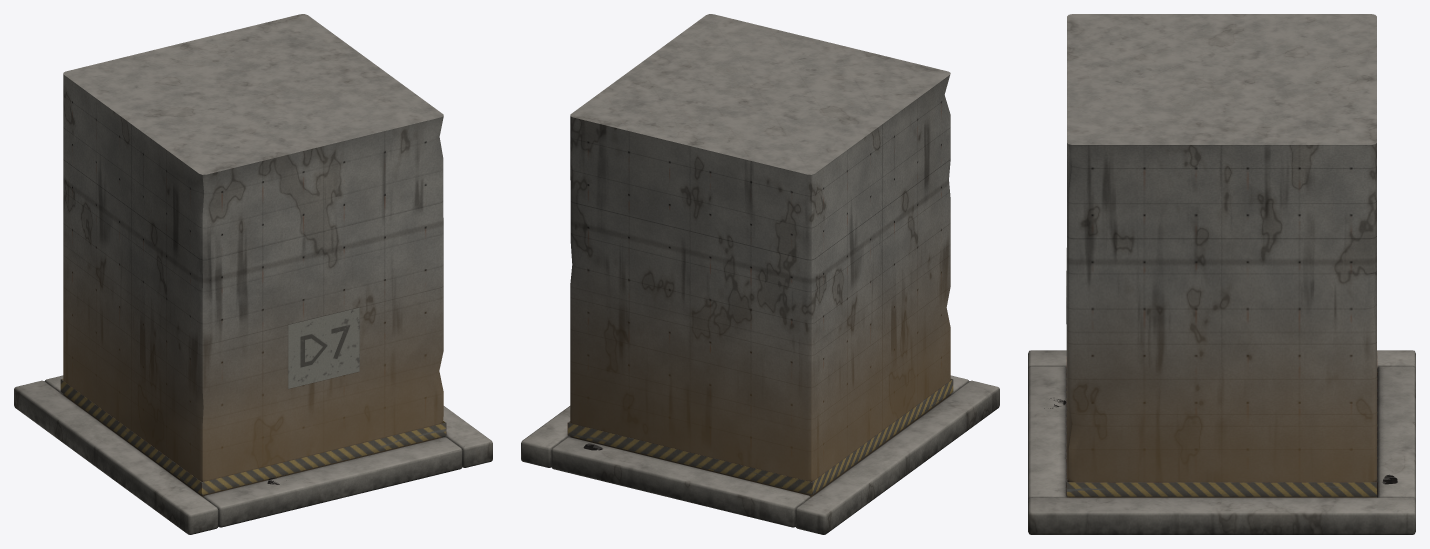
Rendered from giant_pillar_base.fbx.
3 renders of one model, left to right at view 1: azimuth 30°, elevation 25°; view 2: azimuth 150°, elevation 25°; view 3: azimuth 270°, elevation 25°, orthographic. The views are drawn at different scales.
Parts seen in each view (by area): view 1: Body; view 2: Body; view 3: Body.
Boxes of the visible parts, box(x1,y1,x2,y2) form: Body: box(14, 14, 492, 534); Body: box(521, 14, 999, 534); Body: box(1028, 14, 1415, 534).
Bounding box in the file's own units: 30 × 32 × 30.
1 material, 1 textured.
